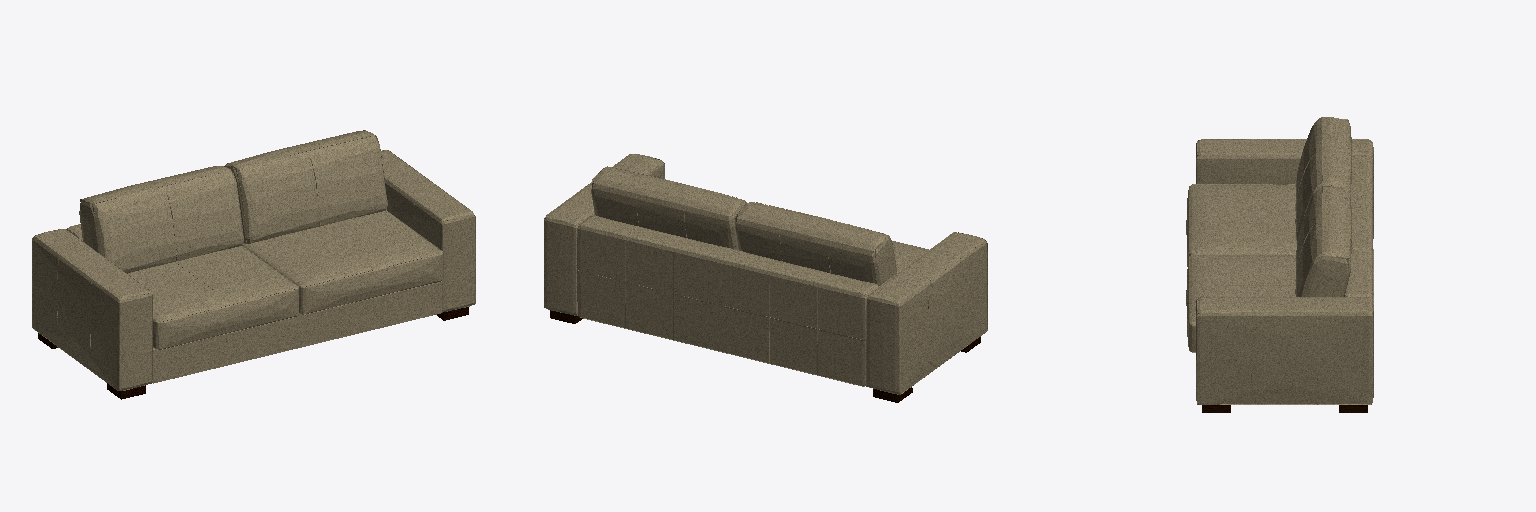
3 renders of one model, left to right at view 1: azimuth 30°, elevation 25°; view 2: azimuth 150°, elevation 25°; view 3: azimuth 270°, elevation 25°, orthographic.
Visible parts, largest first — view 1: Box003.003, Box021.003, Box022.003, Box014.001, Box005.004, Box001.005, Box020.003; view 2: Box016.002, Box003.003, Box021.003, Box022.003, Box020.003, Box005.004; view 3: Box020.003, Box005.004, Box022.003, Box014.001, Box003.003, Box021.003, Box016.002.
Part boxes in pixels (bbox=[...]): Box003.003: bbox=[32, 229, 152, 390]; Box021.003: bbox=[79, 166, 243, 273]; Box022.003: bbox=[225, 131, 387, 243]; Box014.001: bbox=[243, 210, 443, 313]; Box005.004: bbox=[128, 246, 298, 349]; Box001.005: bbox=[153, 282, 441, 383]; Box020.003: bbox=[381, 150, 474, 312]; Box016.002: bbox=[577, 216, 877, 385]; Box003.003: bbox=[867, 232, 986, 394]; Box021.003: bbox=[735, 202, 896, 285]; Box022.003: bbox=[591, 166, 746, 249]; Box020.003: bbox=[544, 154, 664, 315]; Box005.004: bbox=[892, 241, 928, 272]; Box020.003: bbox=[1196, 297, 1373, 404]; Box005.004: bbox=[1186, 185, 1296, 266]; Box022.003: bbox=[1295, 187, 1351, 296]; Box014.001: bbox=[1186, 255, 1295, 351]; Box003.003: bbox=[1196, 140, 1373, 238]; Box021.003: bbox=[1295, 117, 1351, 240]; Box016.002: bbox=[1344, 156, 1372, 298].
Bounding box in the file's own units: 83.54 × 32.13 × 37.62.
3 materials, 2 textured.